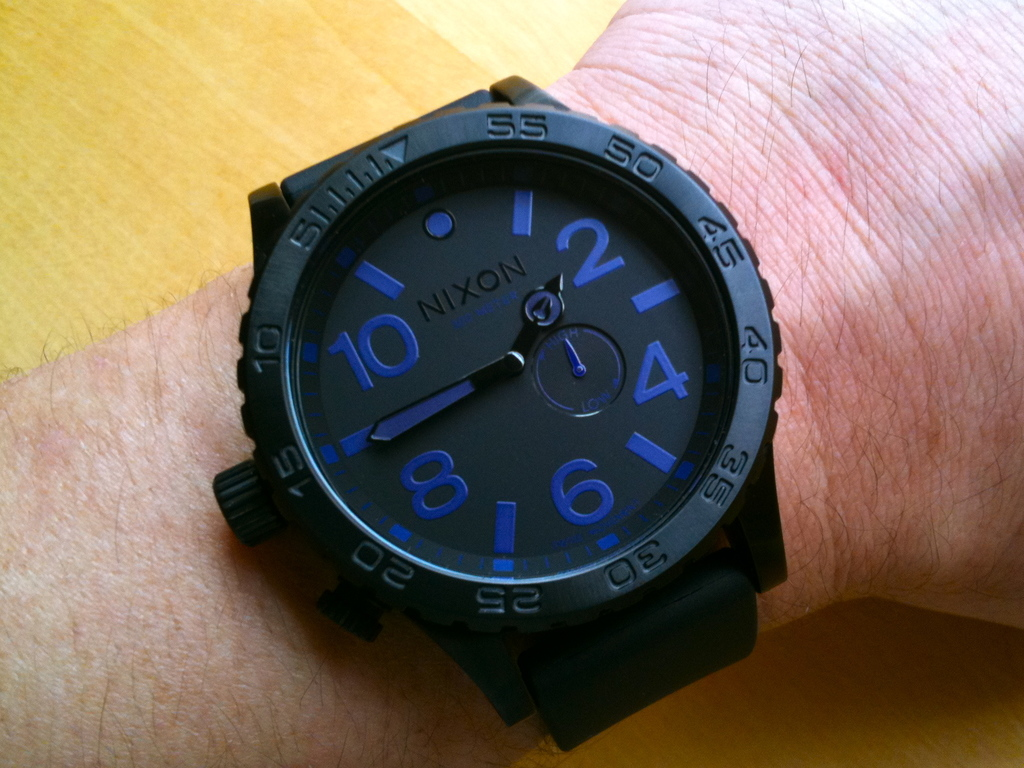watch: (210, 69, 779, 753)
